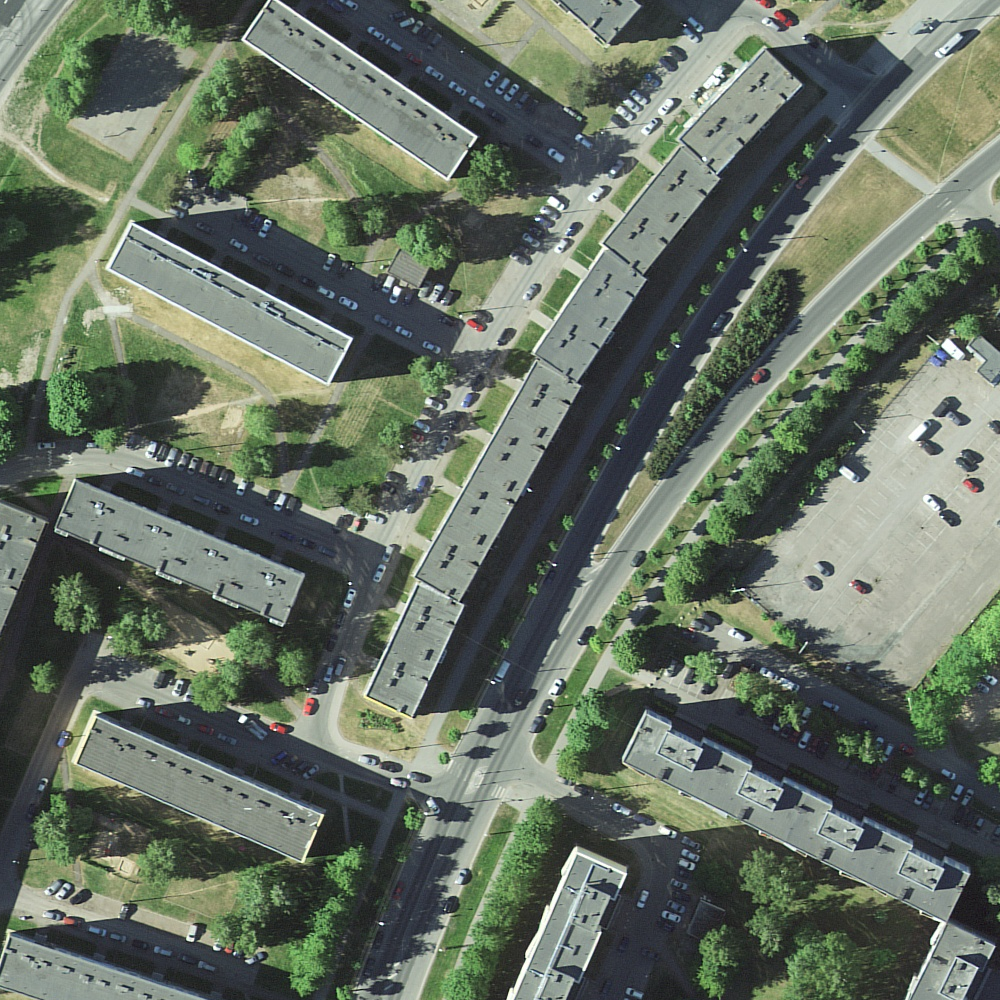building: (242, 1, 479, 181), (413, 358, 582, 600), (106, 220, 353, 384), (76, 715, 326, 863), (55, 480, 306, 626), (622, 714, 803, 854), (510, 850, 629, 1000), (677, 49, 805, 176), (531, 247, 647, 382), (600, 144, 719, 275), (364, 581, 465, 718), (1, 932, 207, 999), (2, 502, 49, 634), (556, 1, 643, 44), (388, 248, 433, 289)
